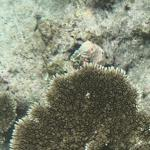alive: (2, 2, 148, 148)
